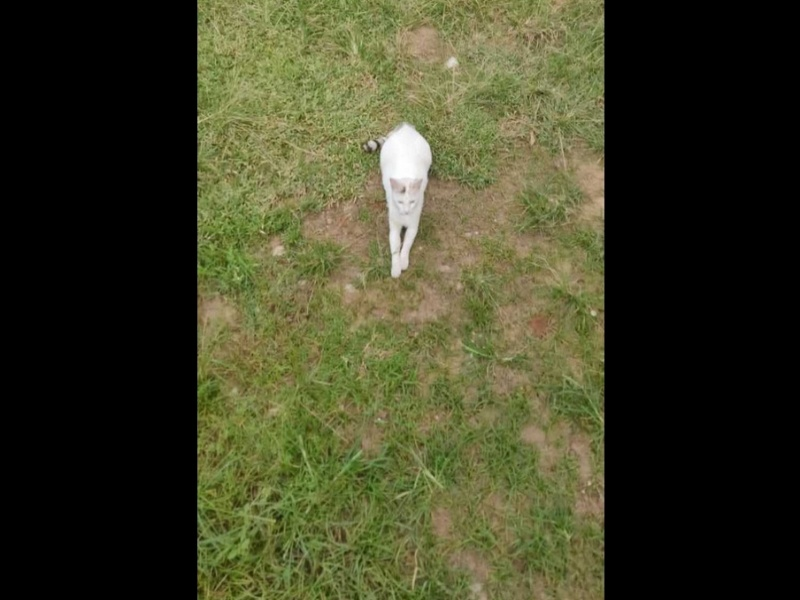cat: (361, 120, 434, 282)
